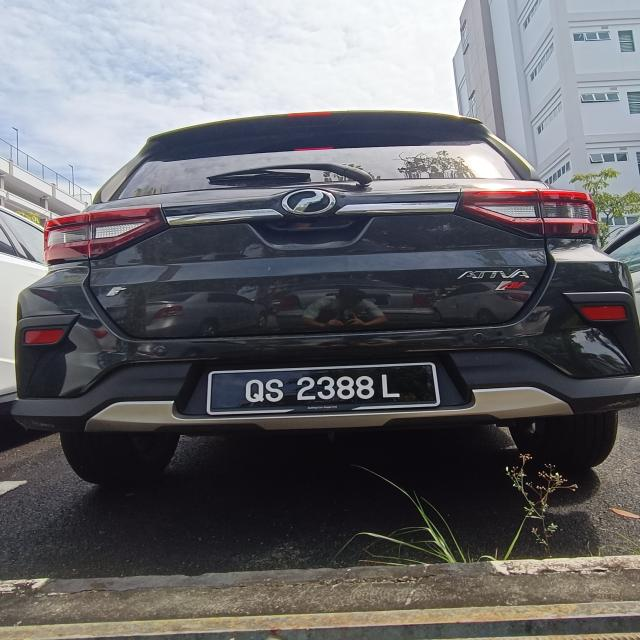PeroduaAtiva: (9, 110, 638, 485)
